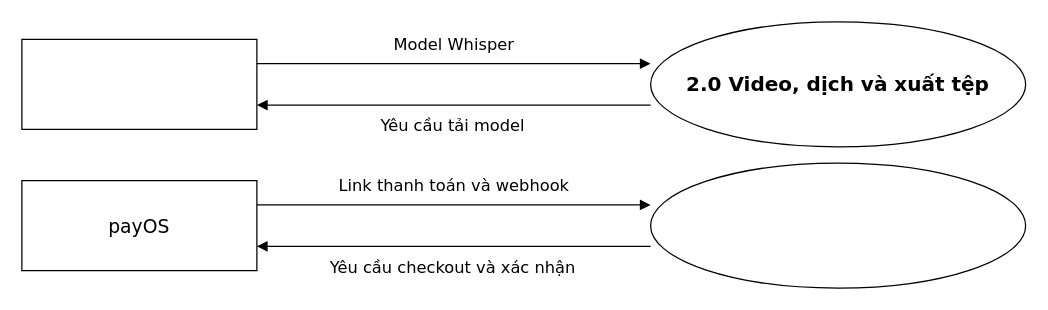
Image size: 1048x310. Some labels were removed from this diagram. The shapes that lost their labels are listed below. From the top down, each one's centre as x and y in pixels, then its label:
At (x=139, y=83): "Hugging Face Hub".
At (x=837, y=225): "3.0 Đơn hàng và thanh toán".
